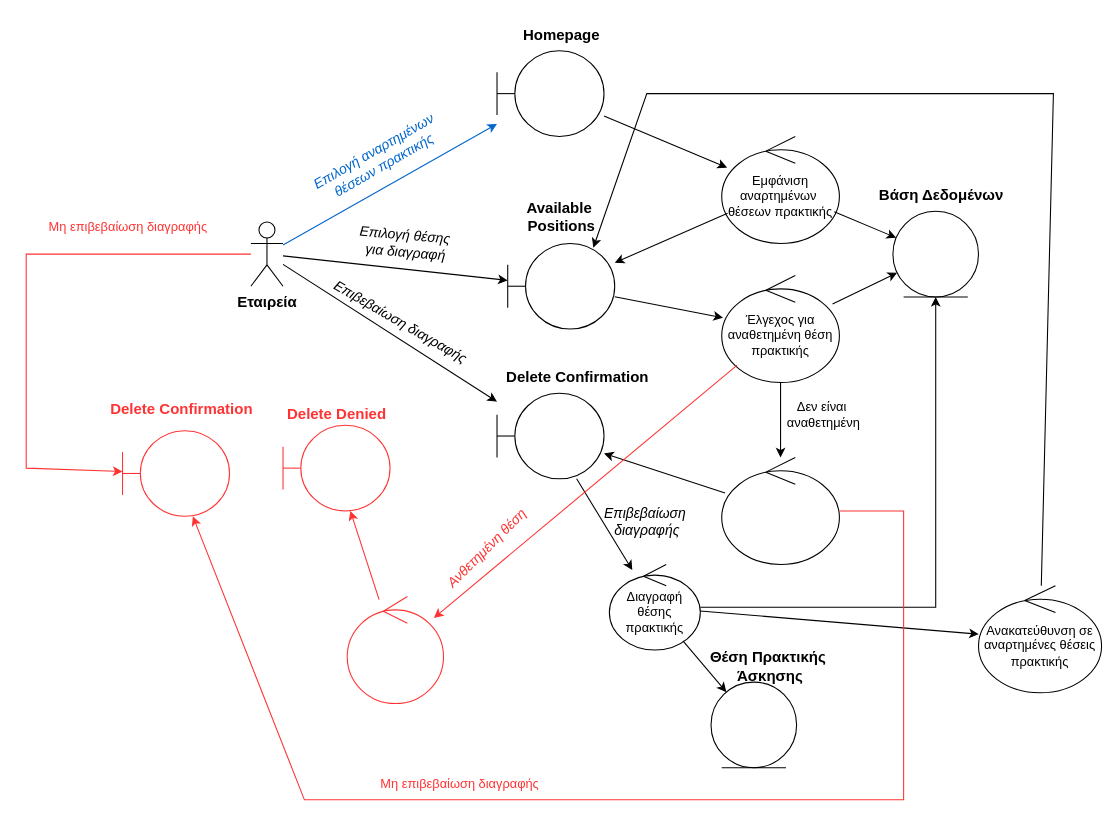
Some shapes in this 1120 by 827 pixel diagram are drawn without their labels. The box of each missing label's shape, as (x1, y1, x2, y2) in pixels:
Εμφάνιση παραθύρου αποτυχίας: (346, 595, 444, 704)
Εμφάνιση παραθύρου επιβεβαίωσης διαγραφής: (721, 456, 839, 564)
